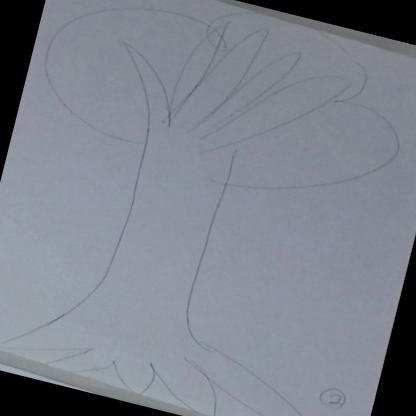branch_sharp: (97, 0, 359, 179)
crown_cloud: (22, 0, 416, 226)
root_only: (0, 296, 344, 416)
trunk_straight: (96, 170, 230, 308)
